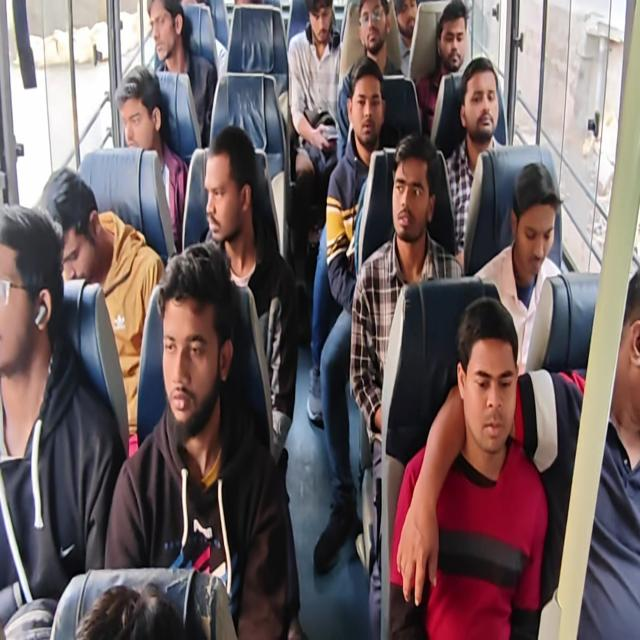person: (1, 1, 638, 638), (104, 240, 292, 638), (348, 131, 464, 637), (0, 201, 127, 638), (388, 296, 549, 638), (198, 125, 303, 636), (312, 56, 397, 574), (46, 166, 166, 456), (473, 161, 563, 375), (114, 65, 189, 252), (444, 56, 505, 261), (336, 0, 404, 160), (146, 0, 216, 144), (287, 0, 342, 183), (415, 0, 468, 136), (74, 582, 186, 639), (393, 0, 418, 78)
